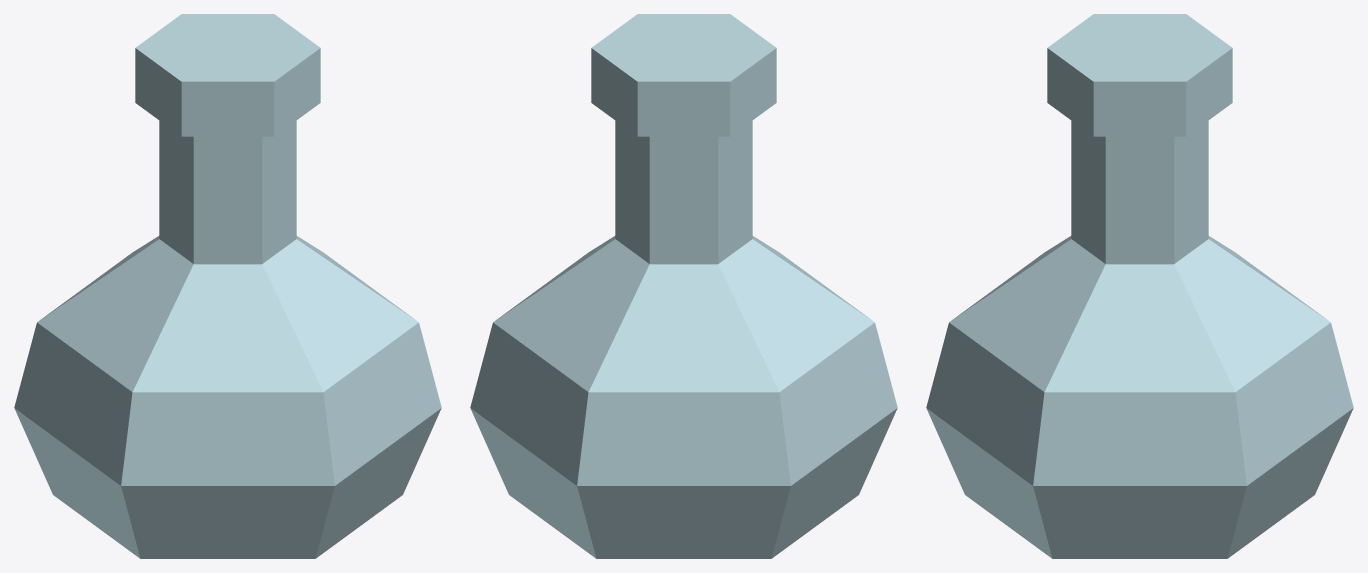
Rendered from manaPotion.fbx.
The picture shows the model from 3 angles, left to right: view 1: azimuth 30°, elevation 25°; view 2: azimuth 150°, elevation 25°; view 3: azimuth 270°, elevation 25°; orthographic projection.
Visible parts, largest first — view 1: manaPotion; view 2: manaPotion; view 3: manaPotion.
Boxes of the visible parts, x1,y1,x2,y2 form: manaPotion: [14, 14, 441, 558]; manaPotion: [470, 14, 897, 558]; manaPotion: [926, 14, 1353, 558].
Bounding box in the file's own units: 20.58 × 27.41 × 23.76.
